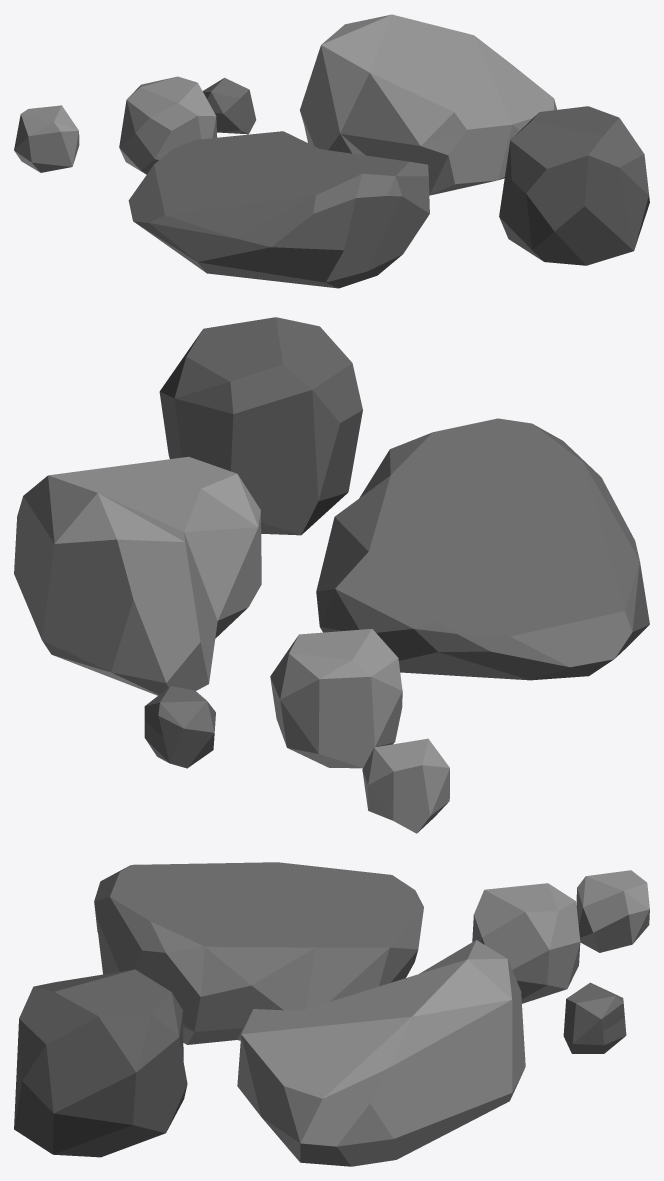
The model's file is EM_Rock02a.fbx.
3 views of the same model, one above another, from view 1: azimuth 30°, elevation 25°; view 2: azimuth 150°, elevation 25°; view 3: azimuth 270°, elevation 25° (orthographic). The views are drawn at different scales.
Parts seen in each view (by area): view 1: EM_Rock02a_LOD0; view 2: EM_Rock02a_LOD0; view 3: EM_Rock02a_LOD0.
Boxes of the visible parts, x1=… form: EM_Rock02a_LOD0: x1=14, y1=14, x2=649, y2=288; EM_Rock02a_LOD0: x1=14, y1=317, x2=649, y2=833; EM_Rock02a_LOD0: x1=14, y1=862, x2=649, y2=1166.
Size of what is drawn, in the model's own units: 1.26 by 0.3814 by 1.34.
